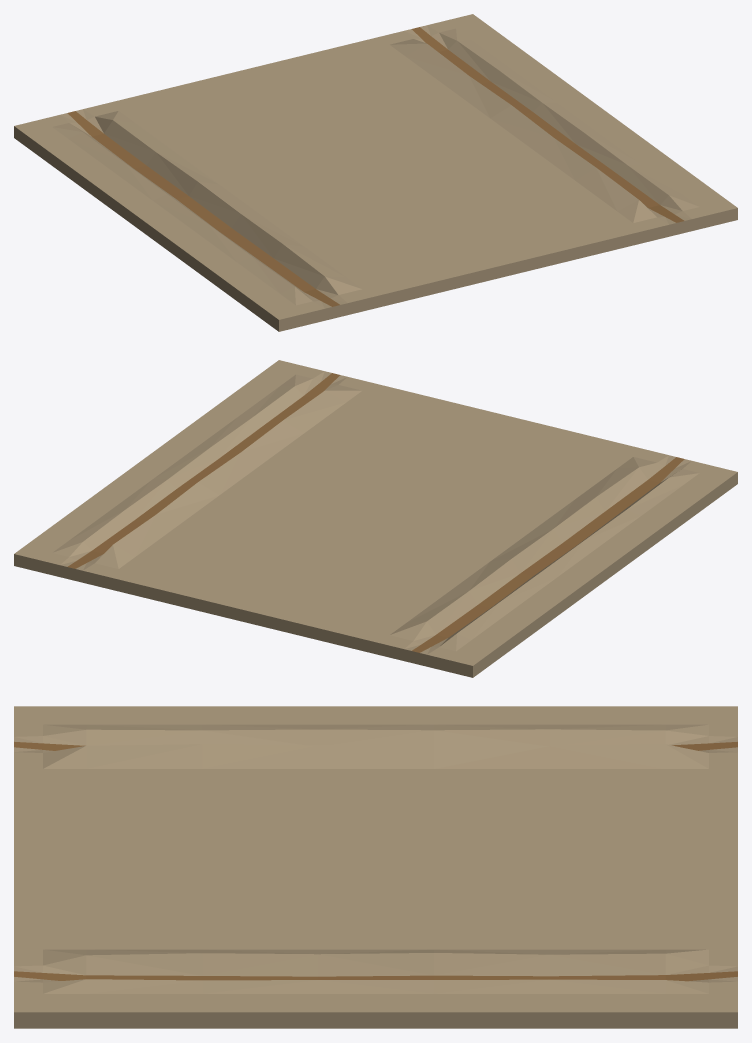
Rendered from dirt-street-tile-58f951.glb.
3 views of the same model, one above another, from view 1: azimuth 30°, elevation 25°; view 2: azimuth 150°, elevation 25°; view 3: azimuth 270°, elevation 25° (orthographic). The views are drawn at different scales.
Visible parts, largest first — view 1: dirt-street-tile-mesh; view 2: dirt-street-tile-mesh; view 3: dirt-street-tile-mesh.
Part boxes in pixels (x1,y1,x2,y2): dirt-street-tile-mesh: (14, 14, 737, 331); dirt-street-tile-mesh: (14, 360, 737, 677); dirt-street-tile-mesh: (14, 706, 737, 1028).
Size of the model in its own units: 2 by 0.0834 by 2.
